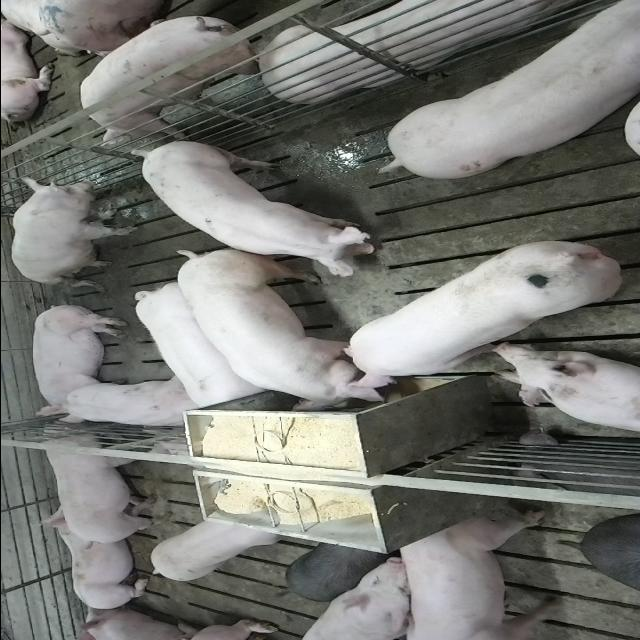Feeding: (338, 238, 624, 393), (174, 252, 392, 418)
Lateral_lying: (28, 302, 128, 419)
Sitting: (8, 178, 138, 286)
Standing: (381, 0, 640, 177), (131, 137, 385, 273), (77, 9, 266, 139), (392, 509, 566, 638), (128, 280, 270, 410), (28, 423, 172, 547), (292, 554, 424, 638), (144, 514, 283, 584)
Sternal_lying: (258, 0, 606, 101), (490, 345, 640, 436), (33, 514, 155, 612), (47, 379, 203, 432)
